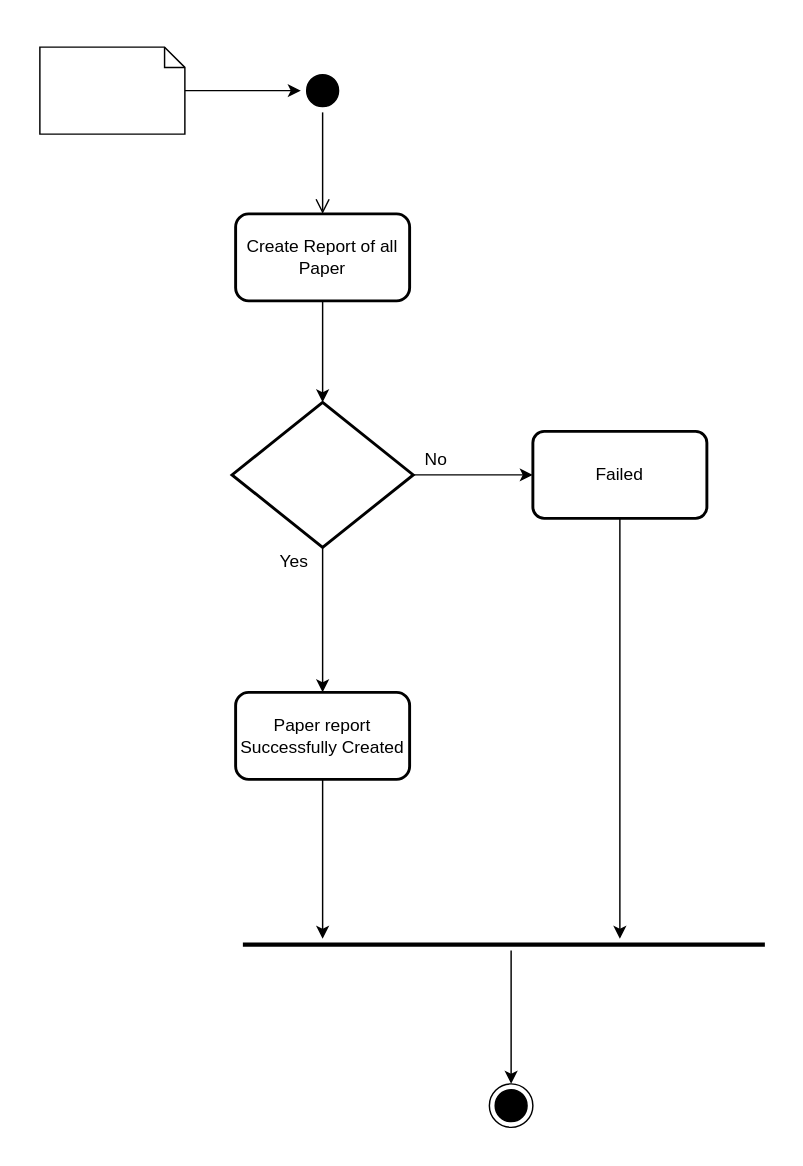
The diagram is 803 pixels wide and 1166 high, and some of its shapes have lost their labels. Here are the shapes that lost their labels. From the top down, the centre of each, then its label:
At point 111,90: "Logged in as Coordinator".
At point 322,474: "Paper Exist?".
